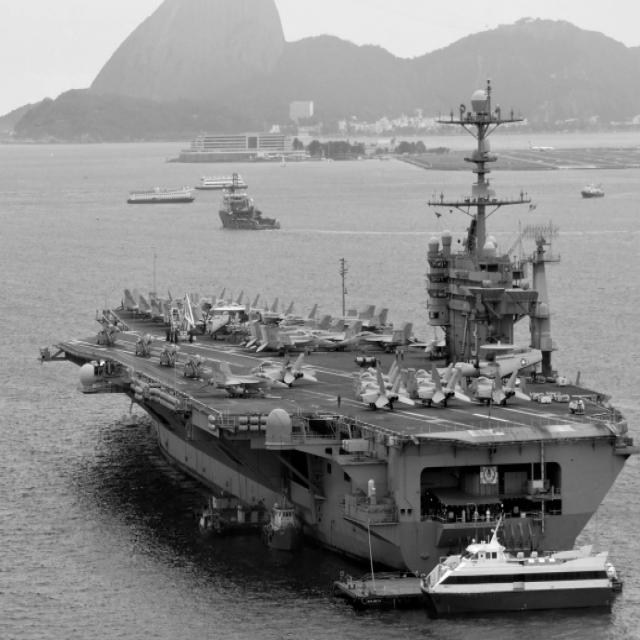Portanaves: (37, 79, 640, 584)
